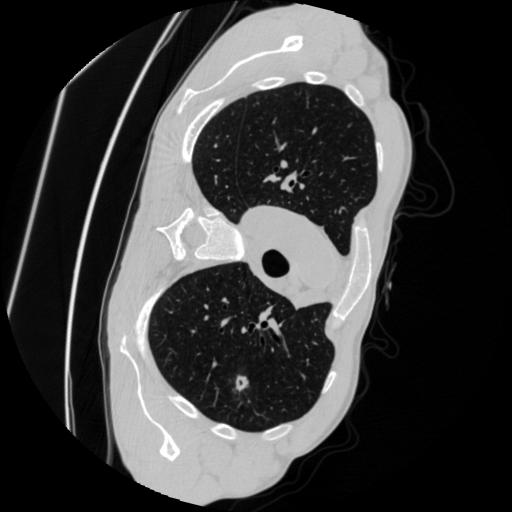nodule: (232, 374, 254, 396)
